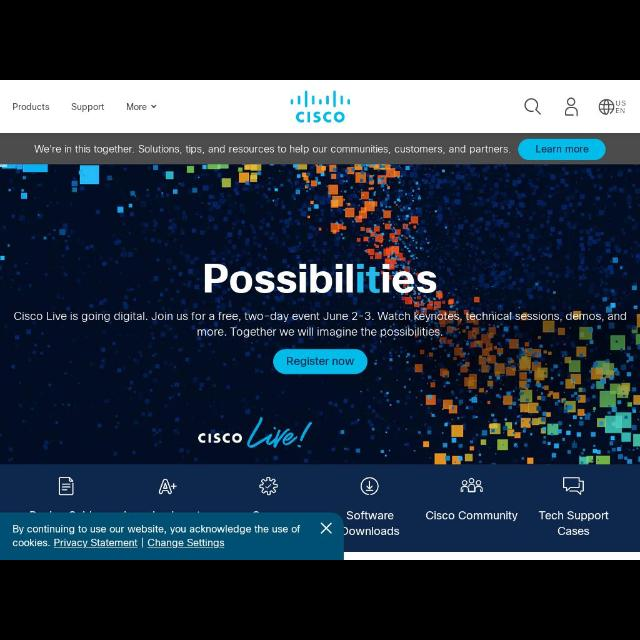backgroundimage: (1, 164, 639, 463)
icon: (599, 98, 627, 116), (460, 476, 486, 494), (562, 476, 584, 496), (258, 478, 280, 497), (156, 478, 178, 496), (359, 477, 378, 497), (524, 96, 542, 115), (562, 98, 580, 116), (58, 478, 74, 498), (320, 521, 332, 535), (150, 102, 158, 110)
image: (196, 416, 314, 454), (288, 86, 354, 126)
link: (53, 538, 139, 550), (147, 538, 226, 550)
panel: (1, 512, 343, 558)
spinner: (123, 97, 163, 117)
text: (14, 309, 628, 325), (202, 262, 438, 298), (15, 522, 304, 550), (32, 142, 512, 156), (198, 326, 442, 338), (342, 512, 401, 536), (426, 510, 518, 522), (539, 510, 611, 520), (11, 100, 52, 114), (70, 101, 106, 113), (555, 526, 591, 538), (126, 101, 148, 113)
textbutton: (273, 349, 367, 375), (518, 138, 606, 162)
